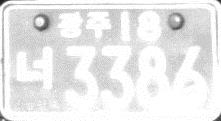1: (117, 8, 132, 44)
3: (99, 43, 136, 113), (61, 44, 100, 110)
6: (171, 43, 211, 112)
8: (135, 43, 172, 110), (134, 8, 163, 44)
광주_O: (57, 9, 112, 39)
너: (13, 44, 55, 97)
